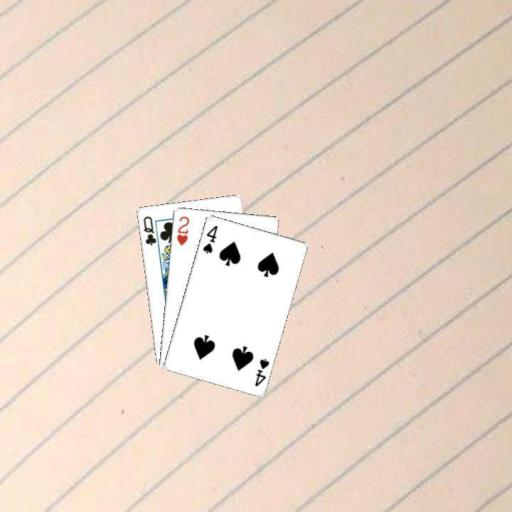card-corner: (199, 222, 219, 254), (251, 355, 270, 387), (140, 212, 157, 246), (174, 212, 190, 246)
